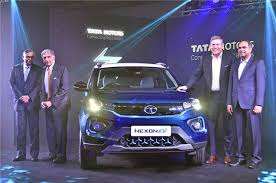Tata Nexon: (73, 61, 208, 171)
